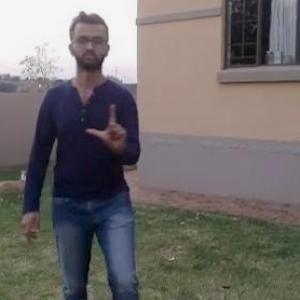land_hand: (82, 96, 132, 154)
